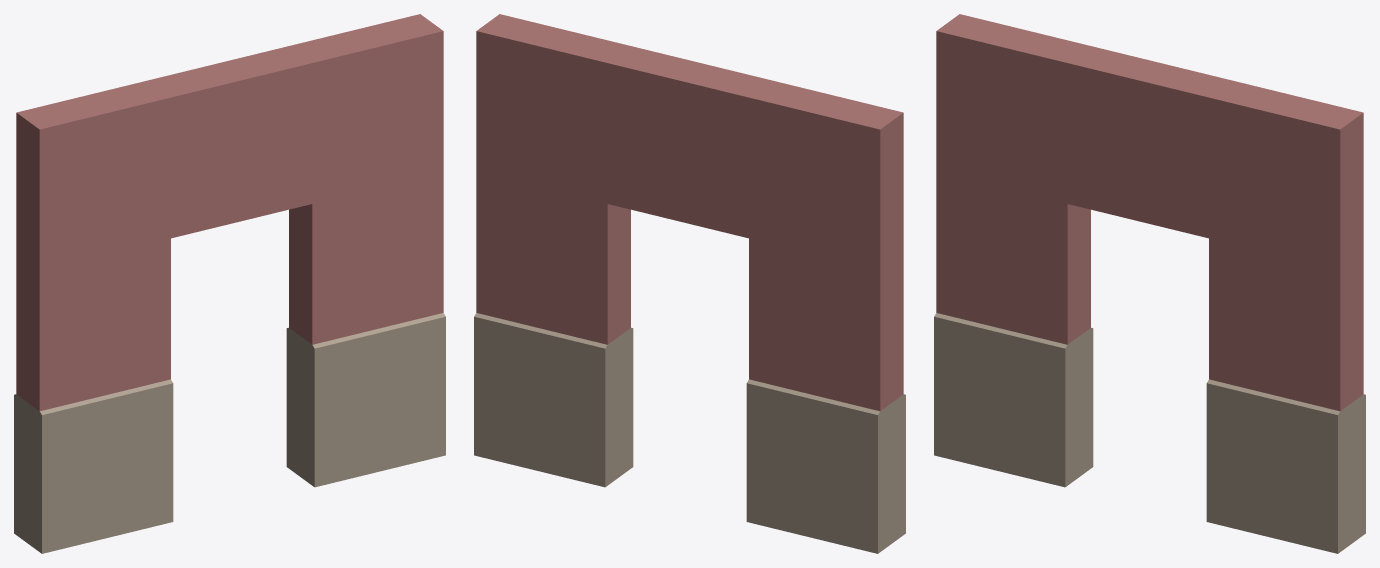
Rendered from wall_4x_base_door.fbx.
3 views of the same model, side by side, from view 1: azimuth 30°, elevation 25°; view 2: azimuth 150°, elevation 25°; view 3: azimuth 330°, elevation 25° (orthographic).
Parts seen in each view (by area): view 1: Cube; view 2: Cube; view 3: Cube.
Boxes of the visible parts, bbox=[...] form: Cube: bbox=[14, 14, 445, 553]; Cube: bbox=[474, 14, 905, 553]; Cube: bbox=[934, 14, 1365, 553].
Bounding box in the file's own units: 400 × 400 × 48.
